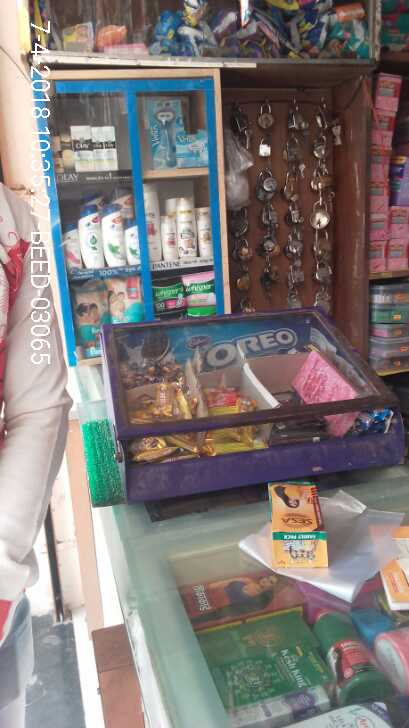venus: (149, 101, 179, 167), (179, 130, 210, 167)
